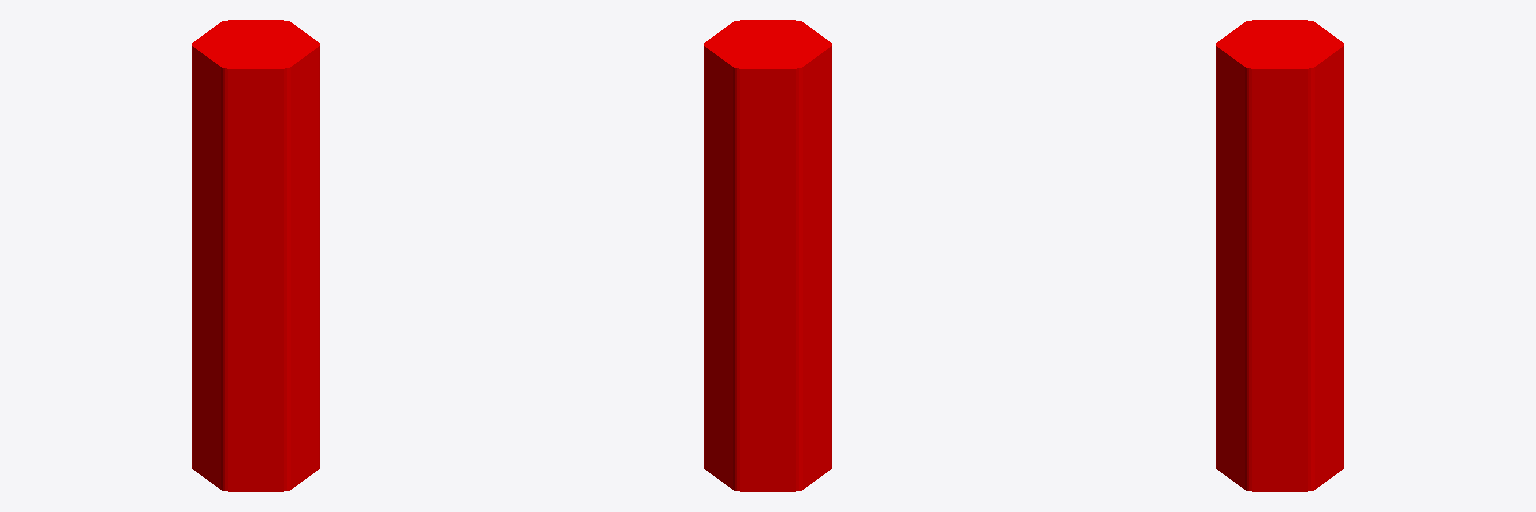
The robot description file, URDF, robot "Medium_Long_Hexagon_Red":
<?xml version="1.0"?>
<robot name="Medium_Long_Hexagon_Red">
    <link name="Medium_Long_Hexagon_Red">
        <visual>
            <geometry>
                <mesh filename="../mesh/factory_insertion/Medium_Long_Hexagon_Red.obj" scale="0.001 0.001 0.001"/>
            </geometry>
            <material name="Red">
              <color rgba="1.0 0 0 0"/>
            </material>
        </visual>
        <collision>
            <geometry>
                <mesh filename="../mesh/factory_insertion/Medium_Long_Hexagon_Red.obj" scale="0.001 0.001 0.001"/>
            </geometry>
            <sdf resolution="512"/>
        </collision>
    </link>
</robot>

--- Facts derived from the render (not from the file) ---
Views: 3 orthographic renders of the robot side by side, from view 1: azimuth 30°, elevation 25°; view 2: azimuth 150°, elevation 25°; view 3: azimuth 270°, elevation 25°.
Robot: Medium_Long_Hexagon_Red — 1 links, 0 joints (none); root link Medium_Long_Hexagon_Red; default pose: every joint at zero.
Visible links, largest first — view 1: Medium_Long_Hexagon_Red; view 2: Medium_Long_Hexagon_Red; view 3: Medium_Long_Hexagon_Red.
Boxes of the visible links, x1,y1,x2,y2 form: Medium_Long_Hexagon_Red: (192, 20, 319, 491); Medium_Long_Hexagon_Red: (704, 20, 831, 491); Medium_Long_Hexagon_Red: (1216, 20, 1343, 491).
Bounding box of the posed robot: 0.0366 × 0.0413 × 0.15 m (x, y, z).
1 mesh visuals loaded from 1 distinct referenced files (1 OBJ).
